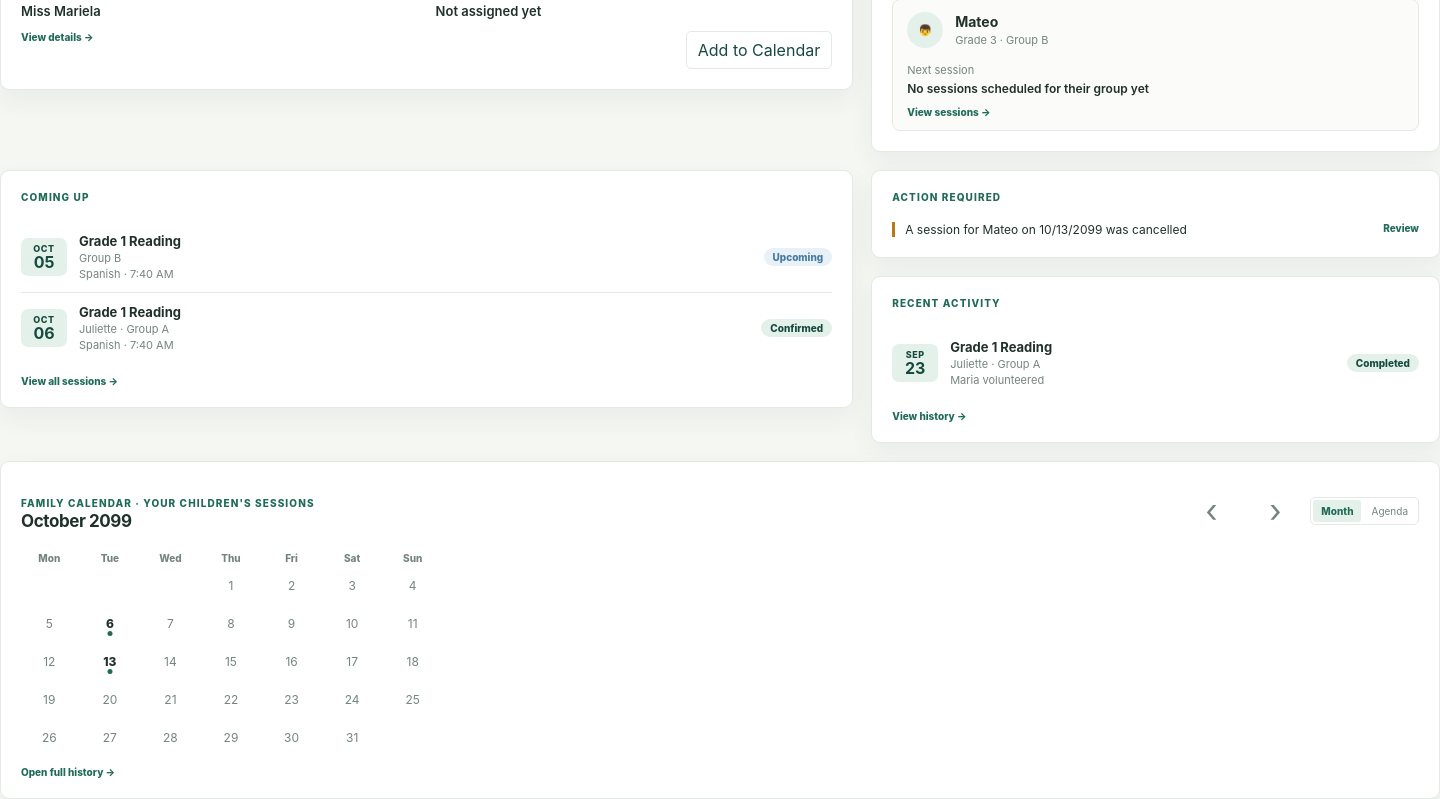
it: limits the dashboard calendar to sessions the family children take part in
(page scrolled)
Click the button named "Next month" at coordinates (1275, 511), box [1246,482,1304,540]
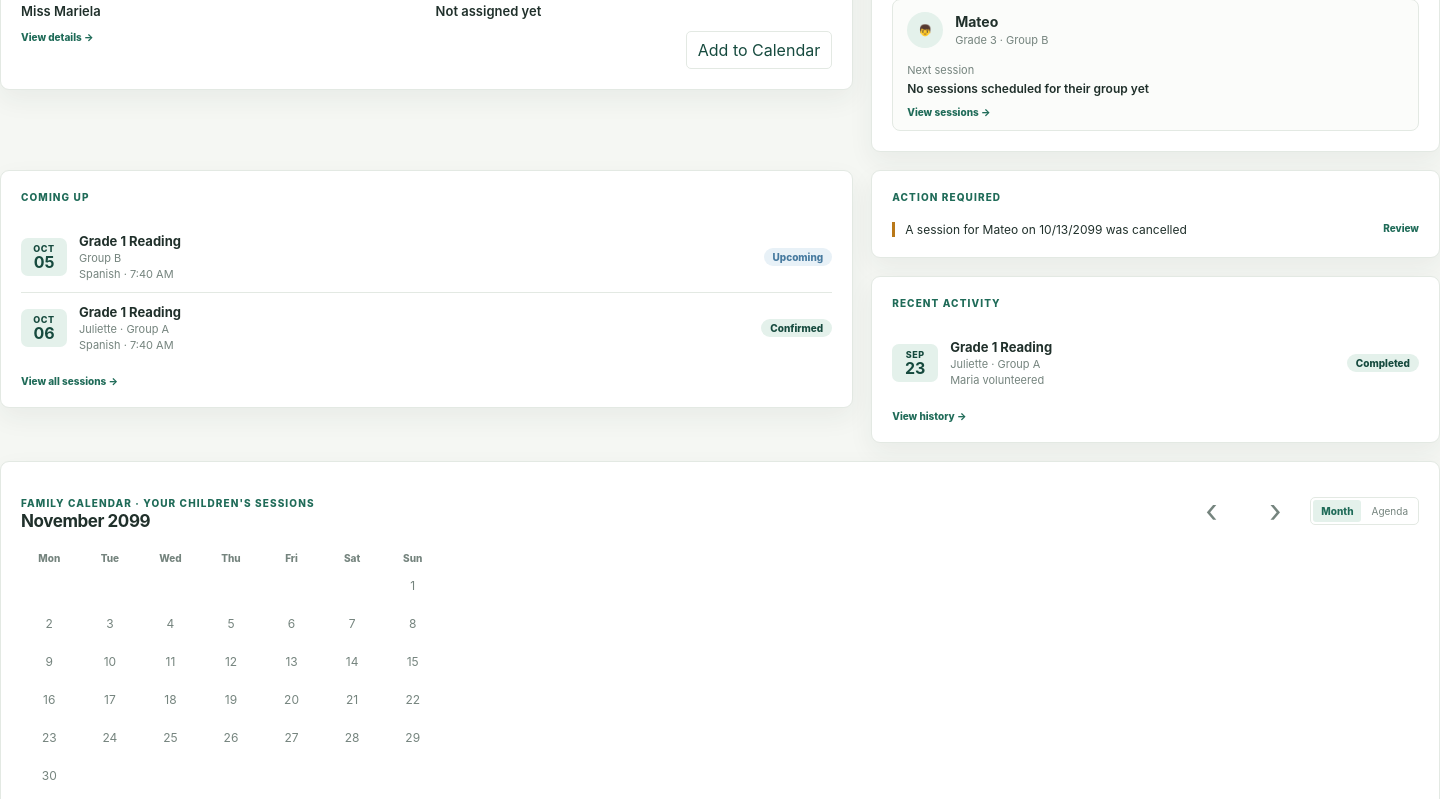
Click the button named "Previous month" at coordinates (1211, 511), box [1182,482,1240,540]
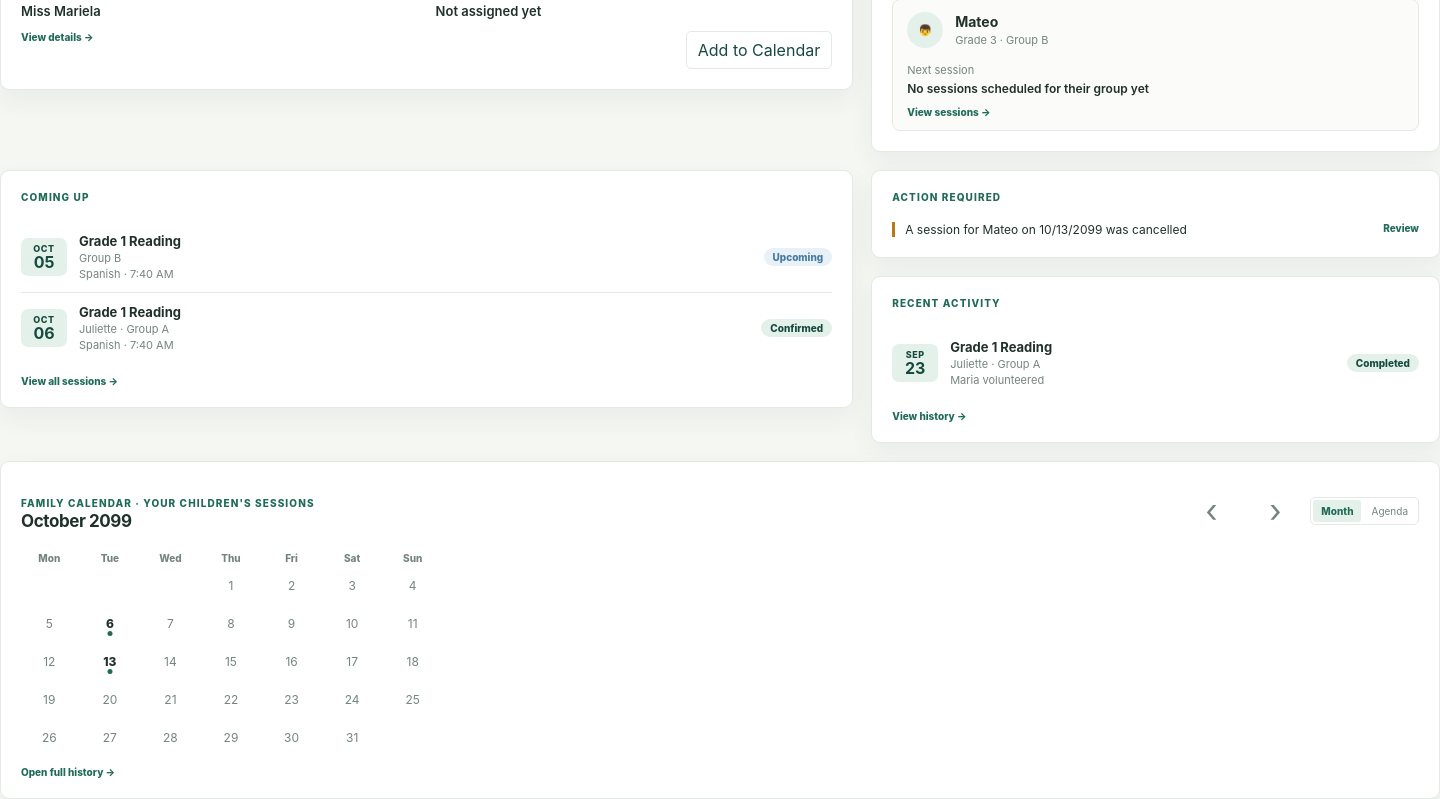
Click the button "Agenda" at coordinates (1390, 511), box [1364,500,1416,522]
(page scrolled)
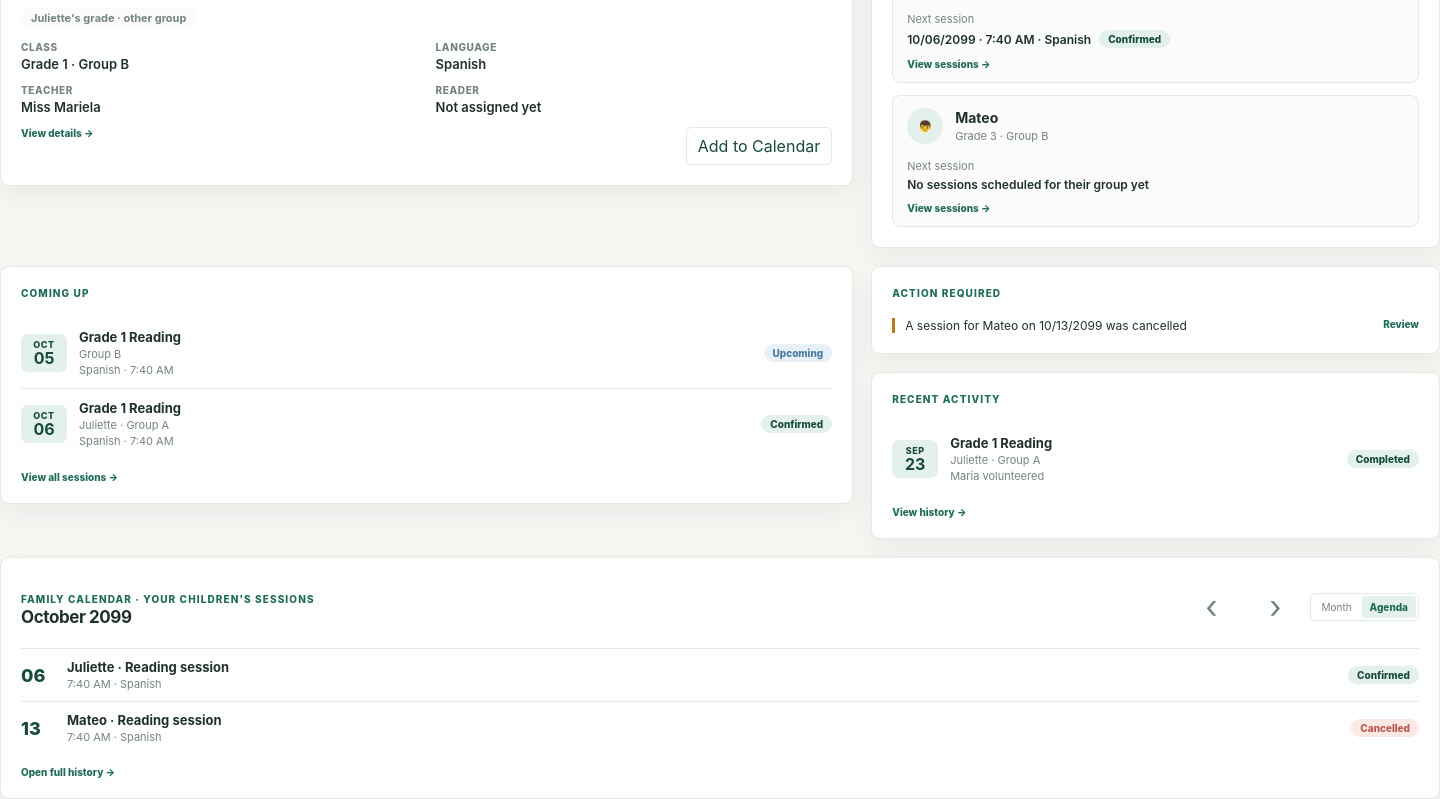
Result: the element "Family calendar" shows "Juliette · Reading session" at [67,659,229,675]
Result: the element "Family calendar" shows "Mateo · Reading session" at [67,712,222,728]
